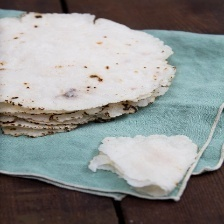roti: (0, 6, 187, 139)
